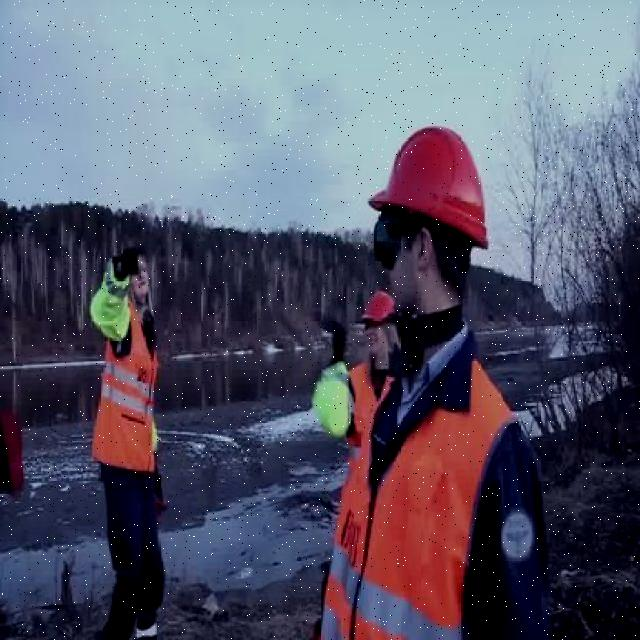Gloves: (316, 312, 349, 362), (113, 243, 141, 280)
Helmet: (372, 122, 492, 250), (360, 286, 396, 332)
Mask: (318, 360, 530, 638), (95, 246, 168, 639), (94, 316, 160, 476), (346, 356, 388, 446), (314, 352, 352, 446), (90, 262, 132, 342)
